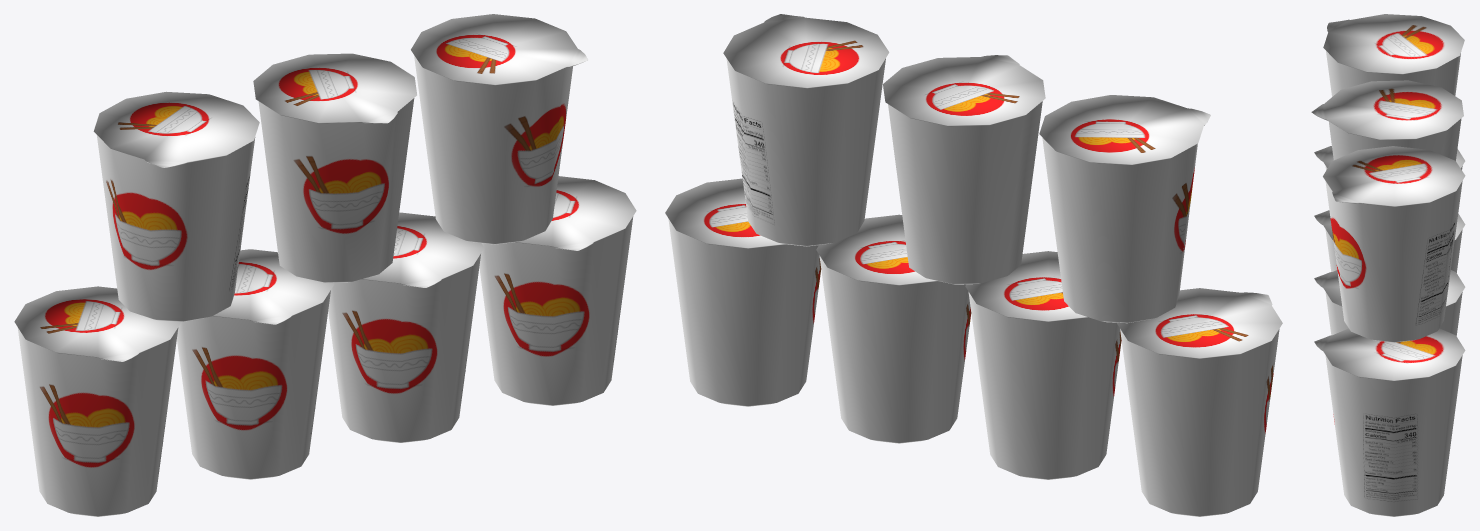
Rendered from ramen_Large.fbx.
3 views of the same model, side by side, from view 1: azimuth 30°, elevation 25°; view 2: azimuth 150°, elevation 25°; view 3: azimuth 270°, elevation 25° (orthographic). The views are drawn at different scales.
Visible parts, largest first — view 1: Cylinder.003; view 2: Cylinder.003; view 3: Cylinder.003.
Boxes of the visible parts, x1=… form: Cylinder.003: x1=14, y1=14, x2=636, y2=516; Cylinder.003: x1=665, y1=14, x2=1282, y2=516; Cylinder.003: x1=1311, y1=14, x2=1465, y2=516.
Size of the model in its own units: 1666 by 935 by 434.
Materials: 1 (1 with a texture image).
